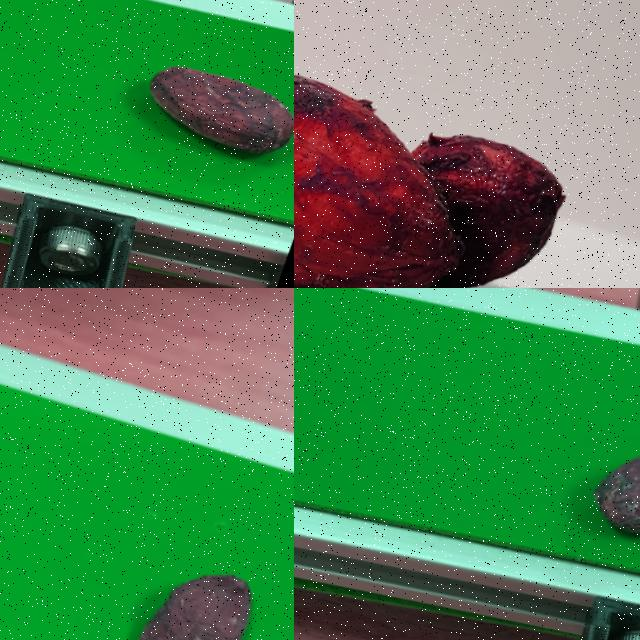Agglomerated_cocoabeans: (294, 0, 639, 287)
Fine_cocoabeans: (32, 0, 293, 234), (497, 361, 639, 625)
Flat_cocoabeans: (1, 502, 293, 639)
